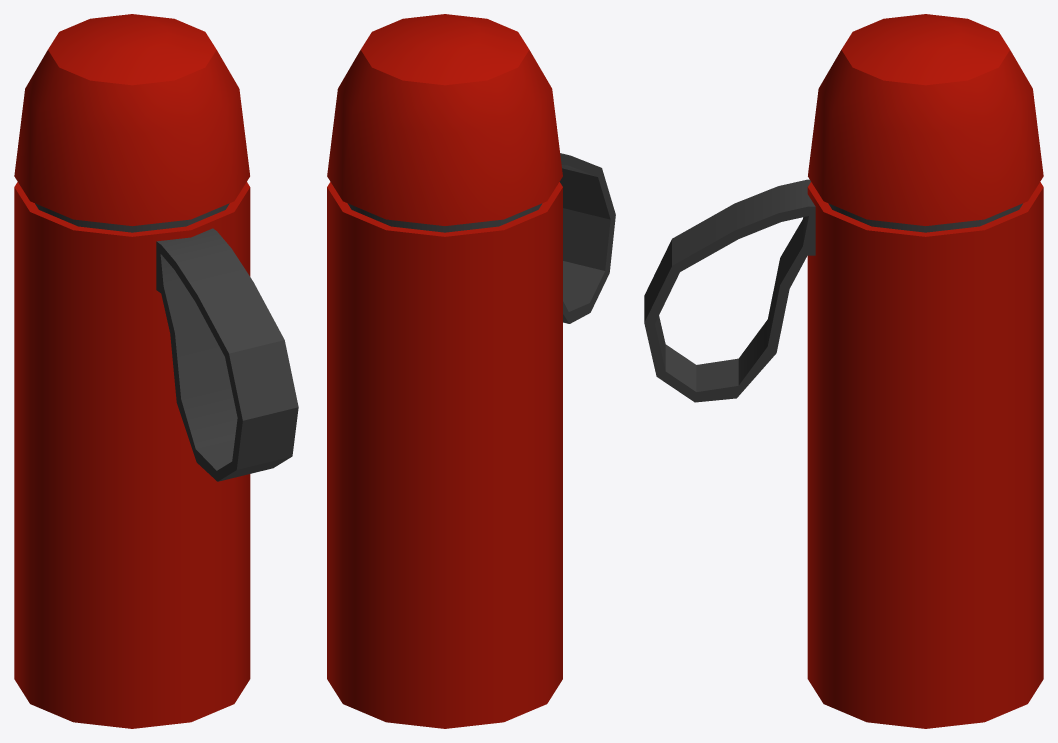
File: Thermos.fbx
3 views of the same model, side by side, from view 1: azimuth 30°, elevation 25°; view 2: azimuth 150°, elevation 25°; view 3: azimuth 270°, elevation 25° (orthographic).
Parts seen in each view (by area): view 1: Thermos; view 2: Thermos; view 3: Thermos.
Boxes of the visible parts, x1,y1,x2,y2 form: Thermos: [14, 14, 298, 728]; Thermos: [327, 14, 615, 728]; Thermos: [644, 14, 1043, 728].
Bounding box in the file's own units: 24.66 × 74.4 × 41.75.
